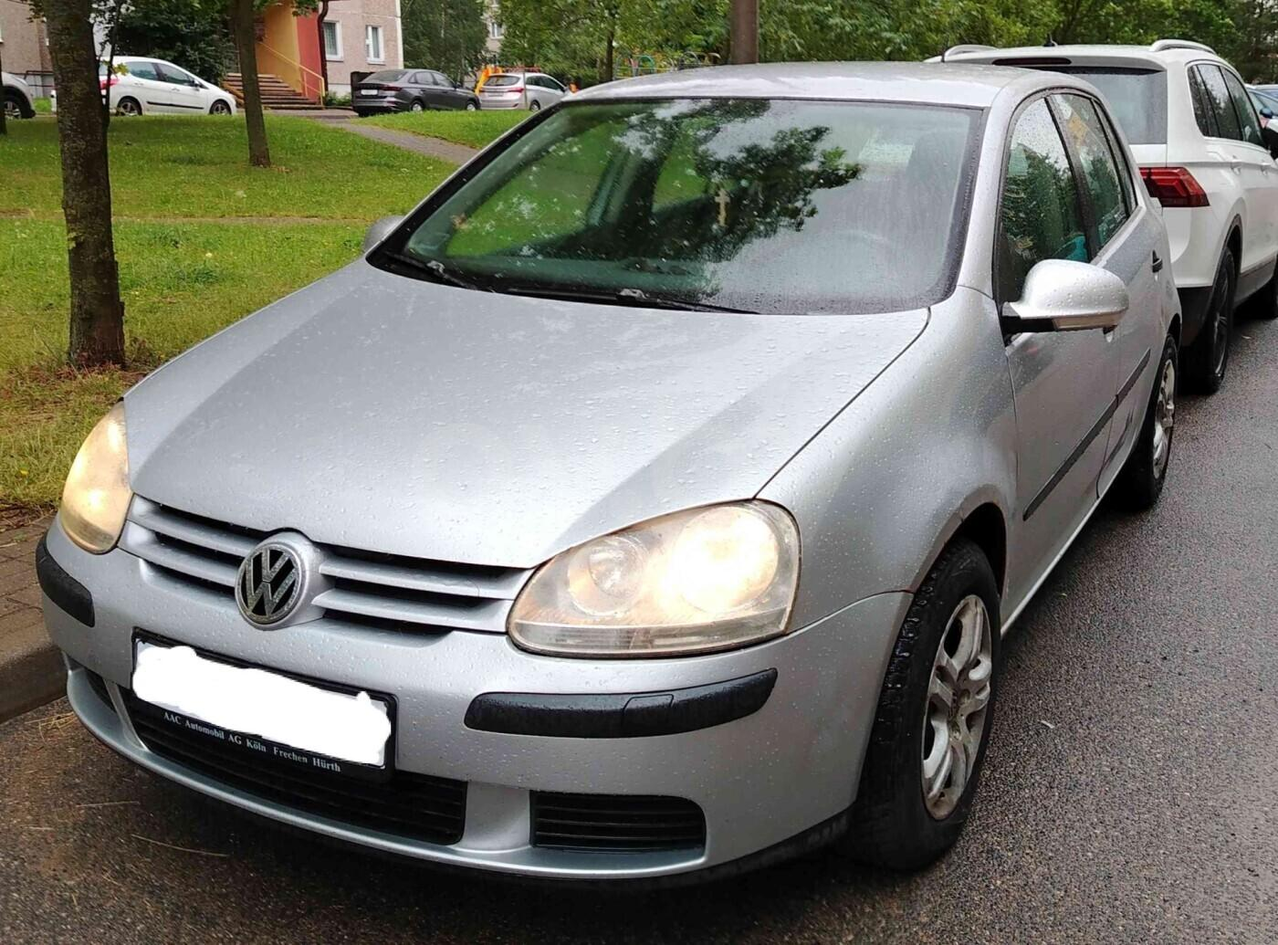Golf_2003-2009: (35, 52, 1194, 885)
